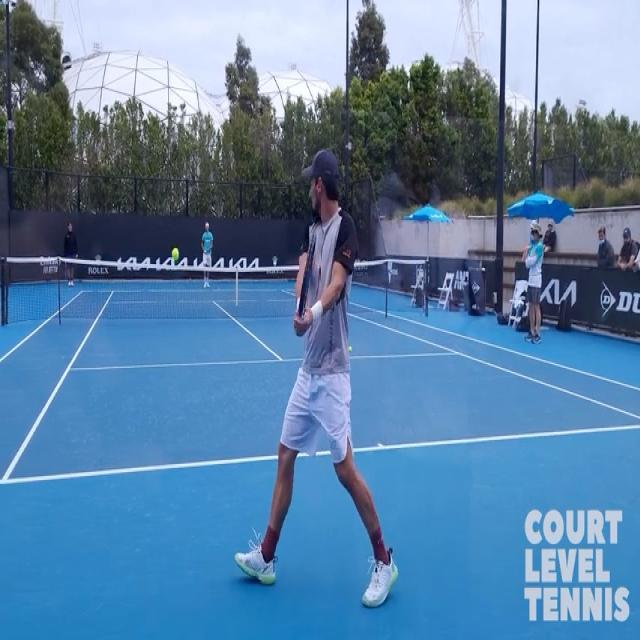backhand-ready: (243, 133, 399, 608)
